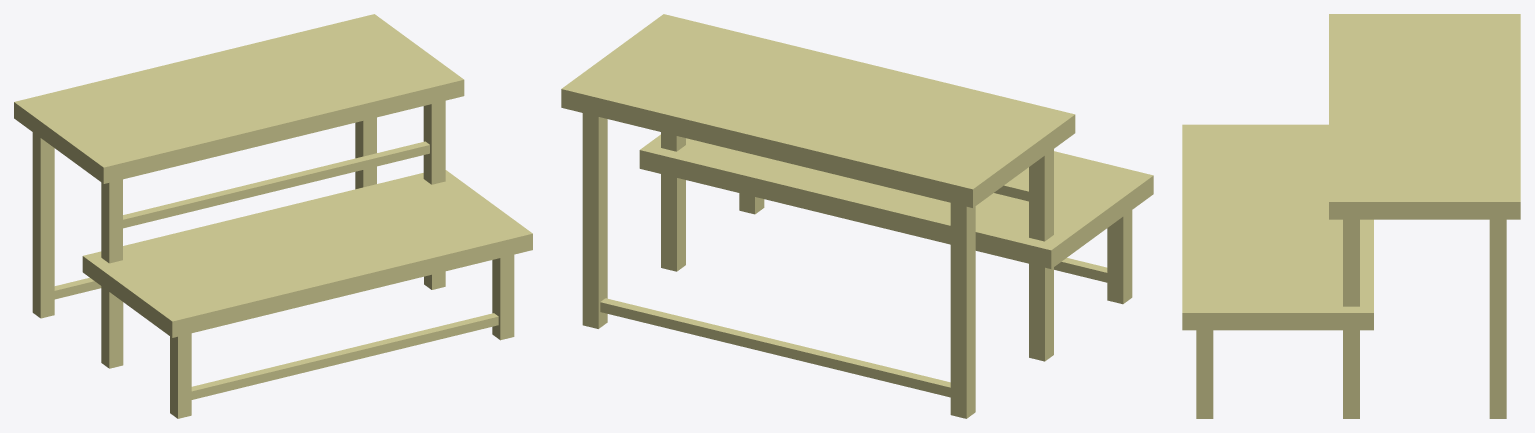
Rendered from Shelf_1.fbx.
3 renders of one model, left to right at view 1: azimuth 30°, elevation 25°; view 2: azimuth 150°, elevation 25°; view 3: azimuth 270°, elevation 25°, orthographic. The views are drawn at different scales.
Parts seen in each view (by area): view 1: Cube.002; view 2: Cube.002; view 3: Cube.002.
Boxes of the visible parts, <box> form: Cube.002: <box>14,14,532,418</box>; Cube.002: <box>561,14,1153,418</box>; Cube.002: <box>1182,14,1520,418</box>.
Bounding box in the file's own units: 1106 × 612 × 841.
